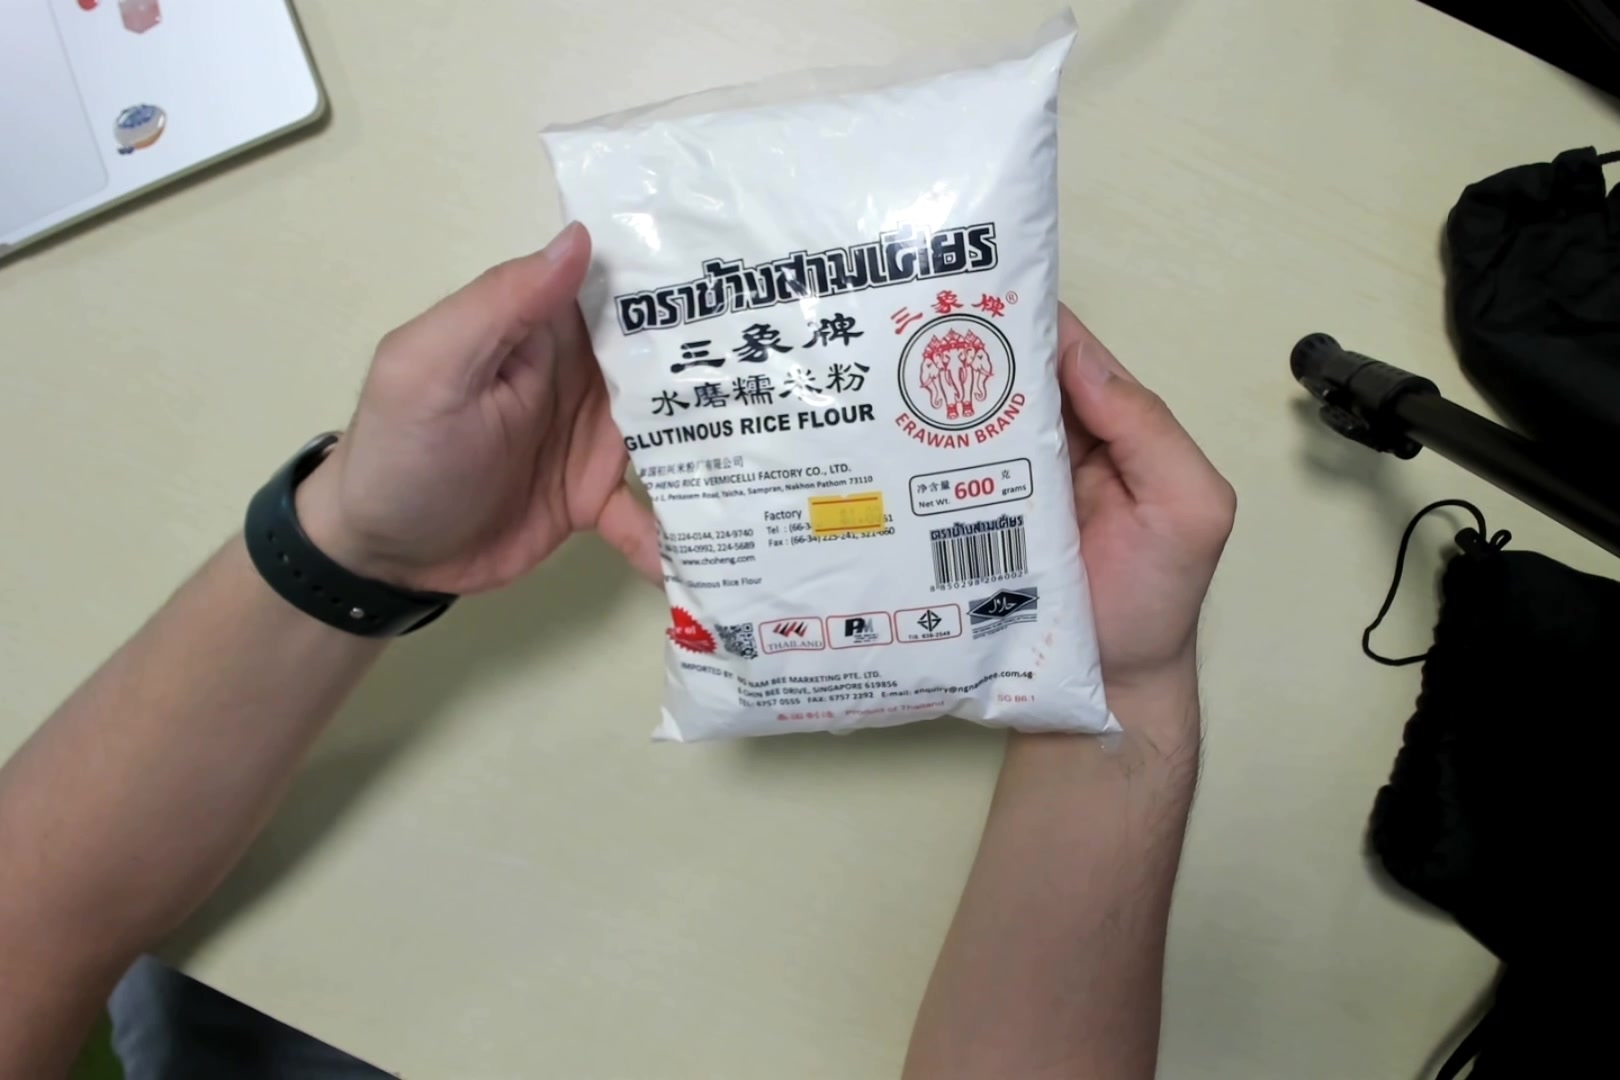OtherBakingNeeds_600-699g_Halal_NonHealthy: (534, 11, 1127, 755)
